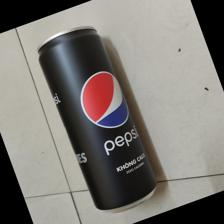Pepsi: (37, 27, 155, 214)
